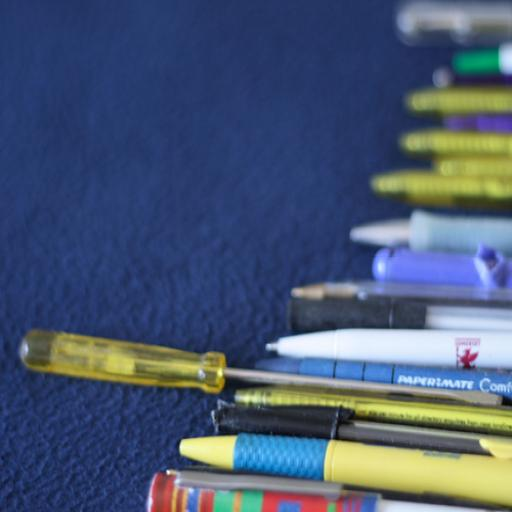screwdriver: (20, 329, 500, 406)
